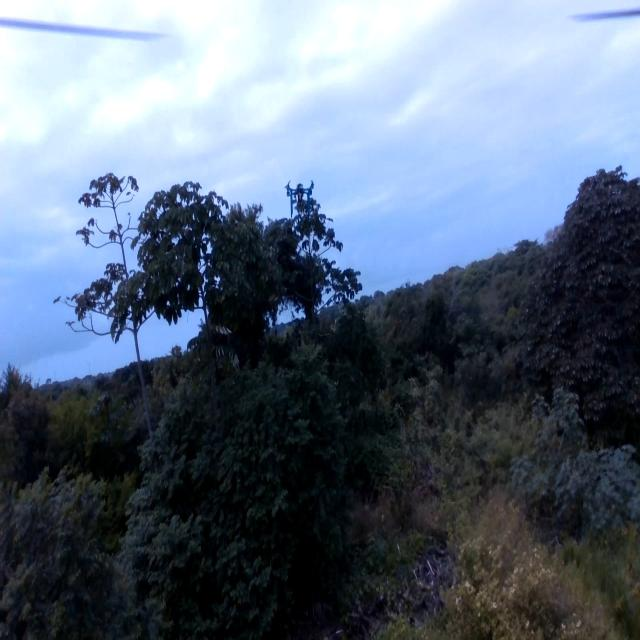-uav-: (282, 172, 316, 221)
